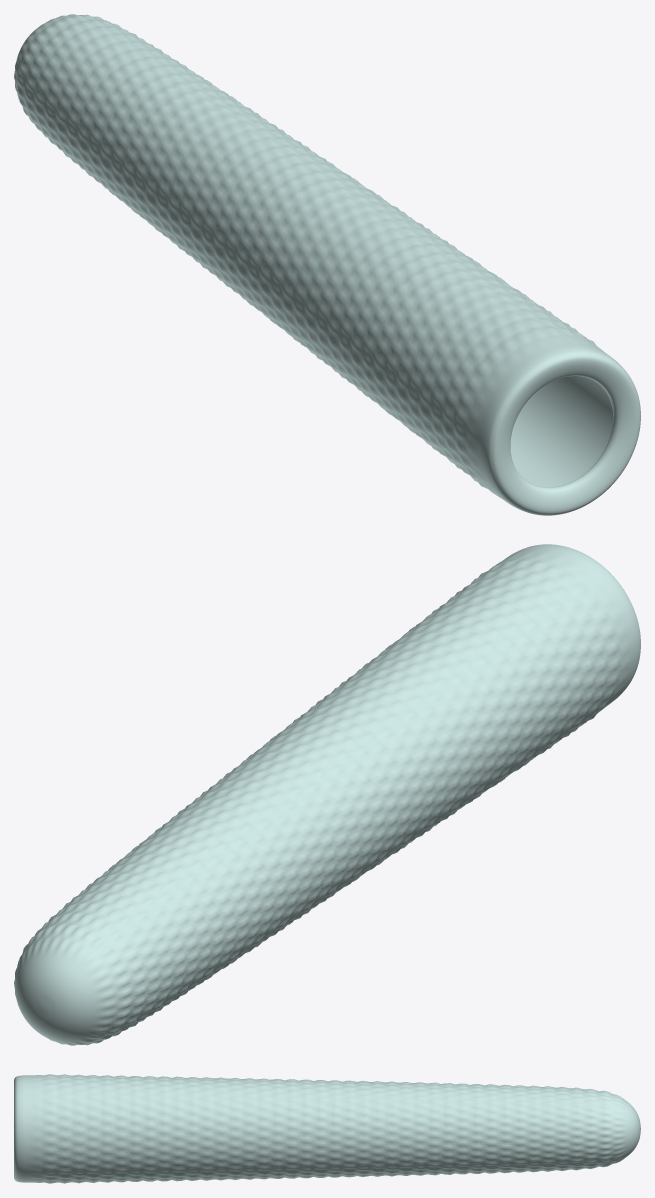
File: pyrosome.glb
3 views of the same model, one above another, from view 1: azimuth 30°, elevation 25°; view 2: azimuth 150°, elevation 25°; view 3: azimuth 270°, elevation 25° (orthographic). The views are drawn at different scales.
Visible parts, largest first — view 1: pyrosome; view 2: pyrosome; view 3: pyrosome.
Part boxes in pixels (bbox=[...]): pyrosome: bbox=[14, 14, 640, 515]; pyrosome: bbox=[14, 544, 640, 1045]; pyrosome: bbox=[14, 1074, 640, 1183].
Bounding box in the file's own units: 0.3506 × 0.3506 × 2.
